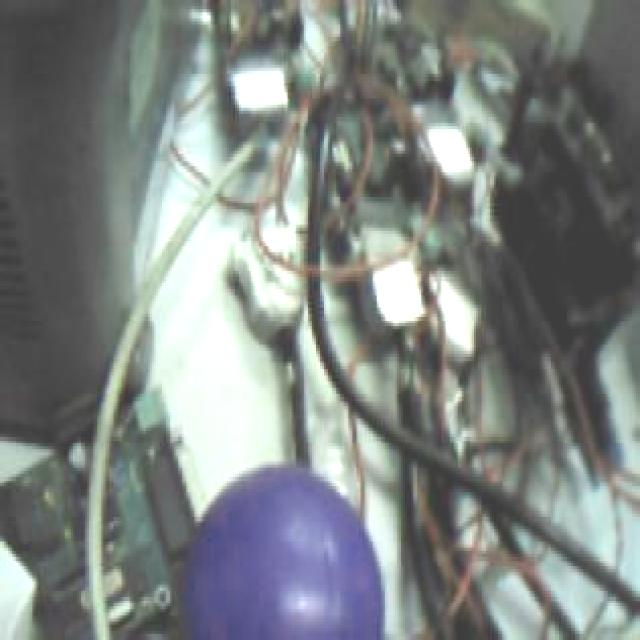BallPurple: (179, 467, 385, 640)
